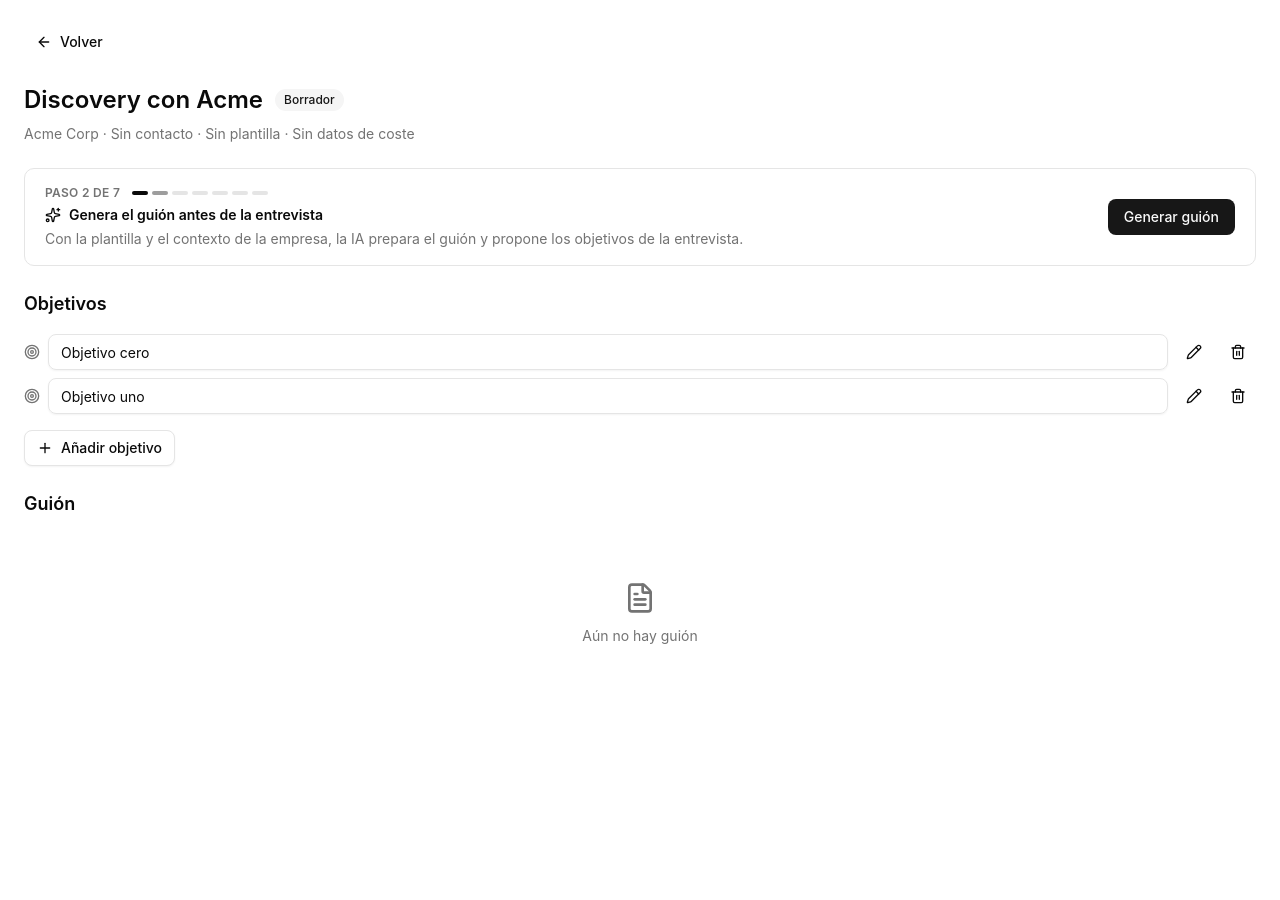
Scenario: ObjectivesSection (edición fusionada SPEC-042) › in-section editing › removes the objective from the displayed list on delete showing the action bar without persisting yet
The image size is (1280, 900).
What coordinates should you click on to do the following:
click the 1st button named "Eliminar objetivo"
I would click on:
 (1238, 352)
Its box is [1220,334,1256,370].
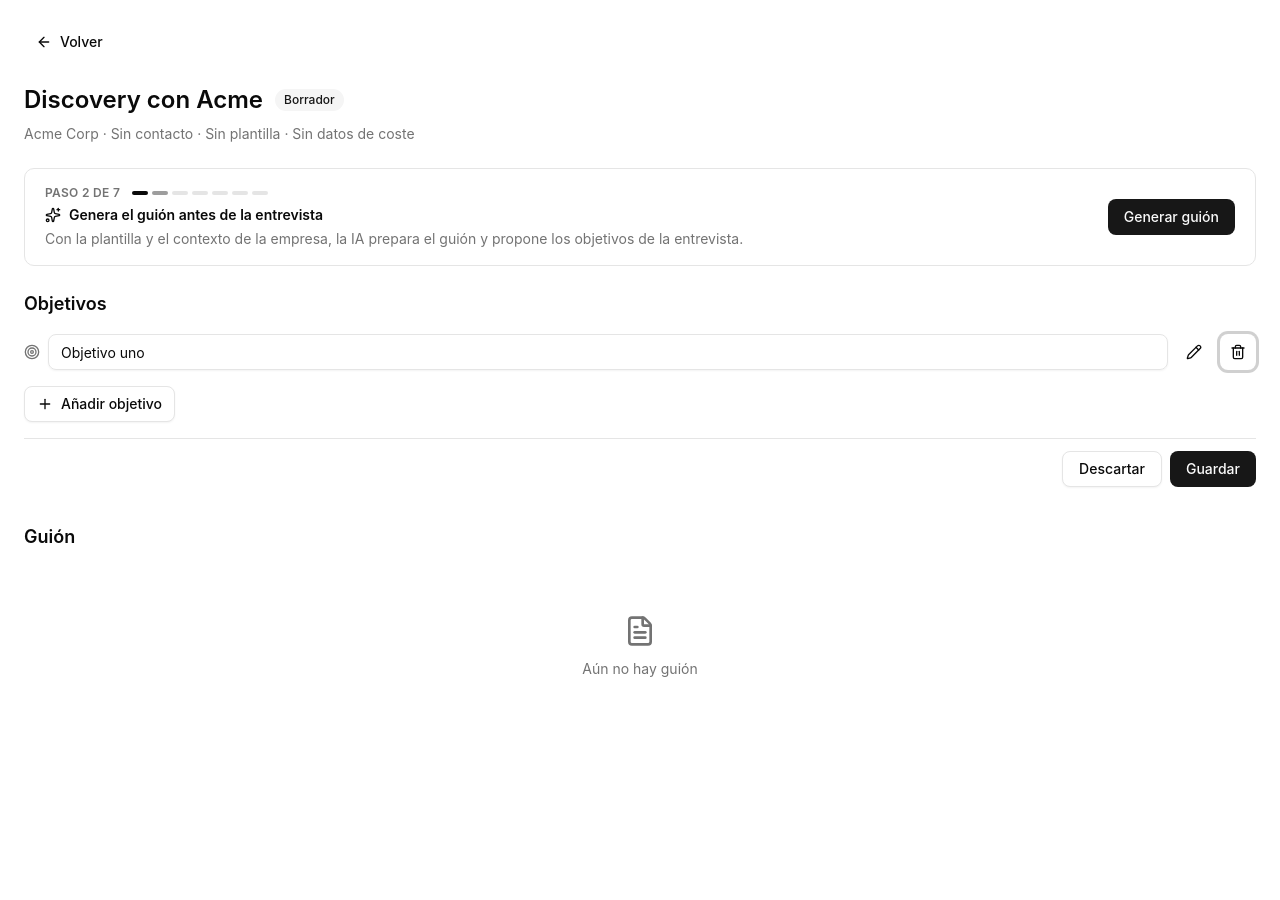
Result: the element with test id "objectives-editor-actions" is shown at [24,438,1256,499]
